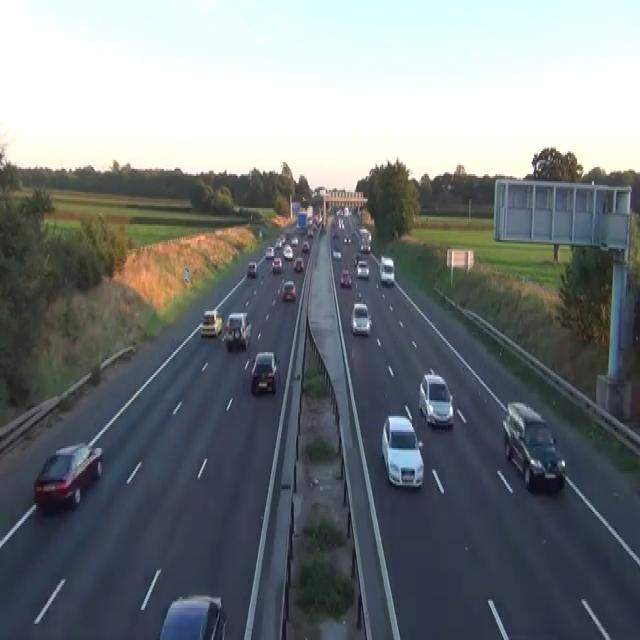Car: (502, 400, 565, 491), (33, 441, 103, 510), (381, 414, 424, 489), (159, 594, 226, 638), (418, 370, 454, 428), (251, 350, 279, 395), (224, 311, 252, 350), (350, 302, 372, 336), (200, 309, 222, 338), (379, 256, 395, 284), (281, 279, 296, 301), (340, 268, 352, 288), (356, 260, 369, 278), (271, 256, 283, 274), (282, 243, 293, 260), (247, 260, 257, 278), (293, 256, 304, 272), (331, 246, 341, 260), (277, 277, 284, 295), (360, 240, 370, 252), (265, 245, 274, 258), (354, 252, 362, 265), (301, 240, 309, 252), (274, 238, 282, 249), (290, 237, 298, 246), (343, 234, 351, 243), (335, 208, 343, 217), (280, 233, 285, 243), (307, 228, 313, 236), (352, 230, 358, 238), (332, 231, 338, 238), (258, 230, 262, 238)
